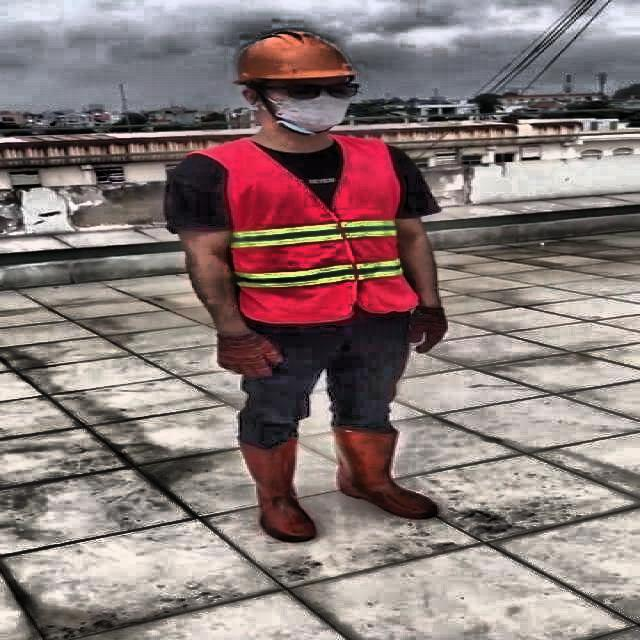safety_helmet: (226, 28, 358, 86)
safety_jacket: (226, 134, 414, 323)
